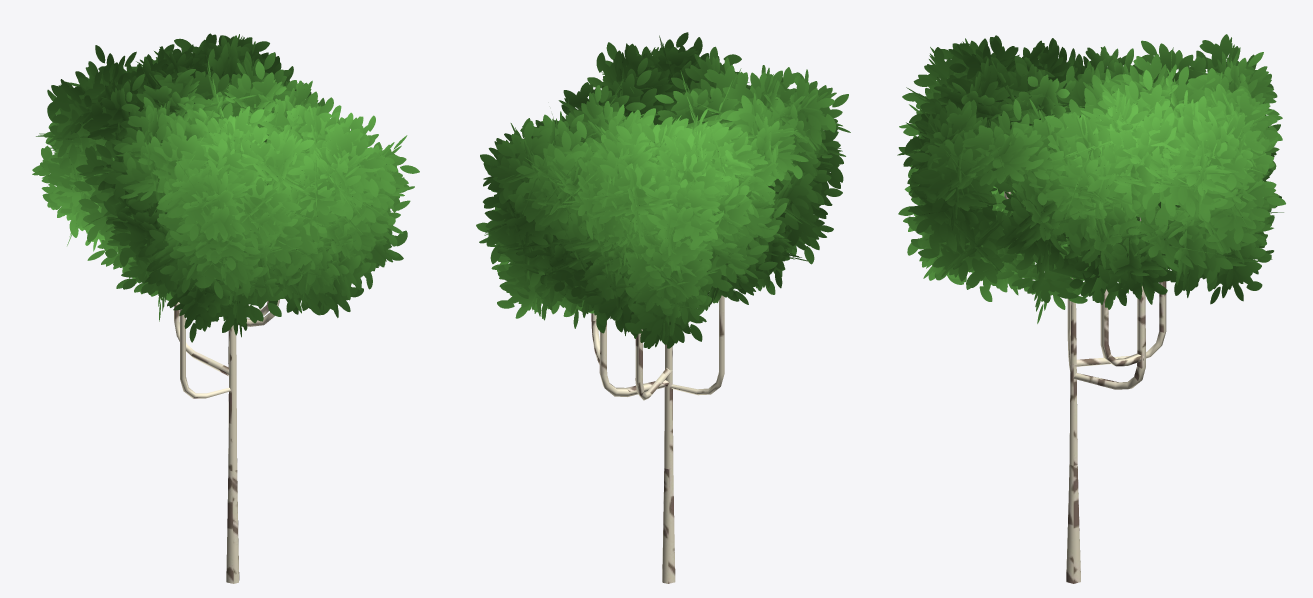
The model's file is sn-stylised-tree-8.glb.
The picture shows the model from 3 angles, left to right: view 1: azimuth 30°, elevation 25°; view 2: azimuth 150°, elevation 25°; view 3: azimuth 270°, elevation 25°; orthographic projection. The views are drawn at different scales.
Parts seen in each view (by area): view 1: StylisedTree8; view 2: StylisedTree8; view 3: StylisedTree8.
Part boxes in pixels (box(x1,y1,x2,y2)): StylisedTree8: box(32, 33, 419, 583); StylisedTree8: box(476, 32, 850, 583); StylisedTree8: box(897, 34, 1285, 583).
Bounding box in the file's own units: 2.8 × 4.94 × 3.51.
Materials: 2 (2 with a texture image).
